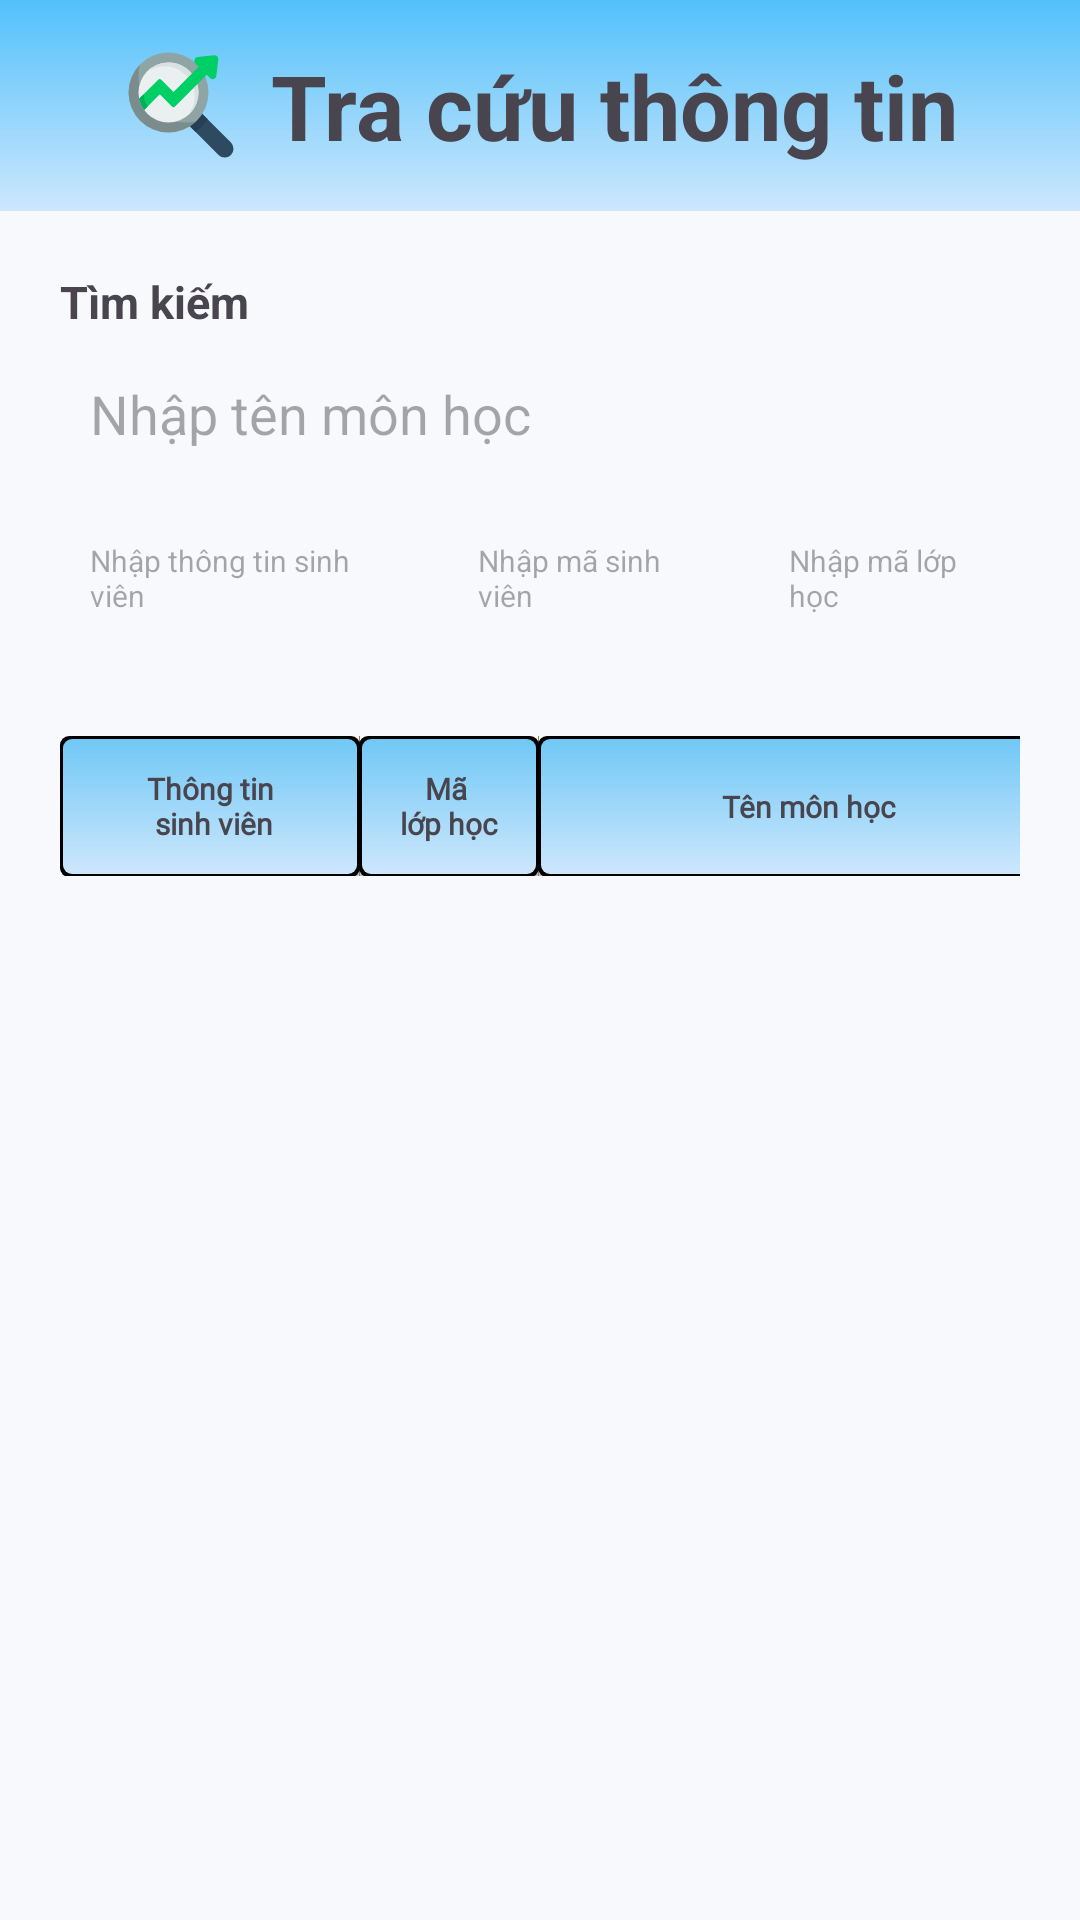

Screen size 1080w x 1920h. Icon name, then its center in pixels as (x,y):
search headericon: (181,105)
